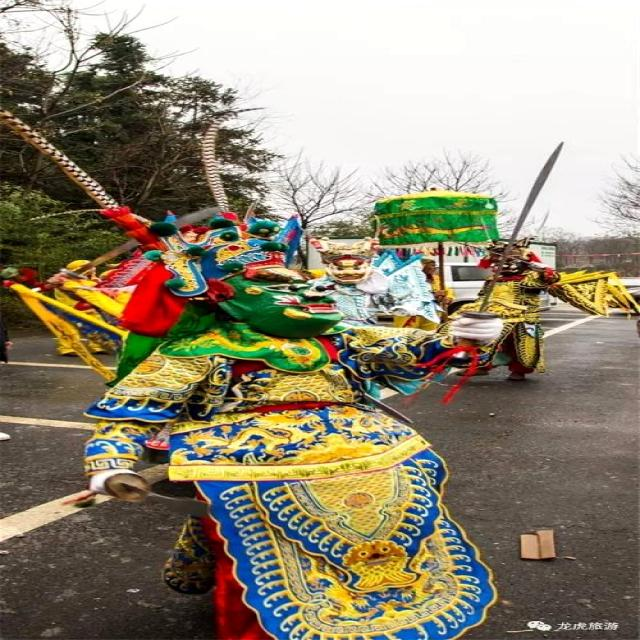Reeves-s Pheasant: (0, 103, 125, 205), (189, 107, 269, 204)
